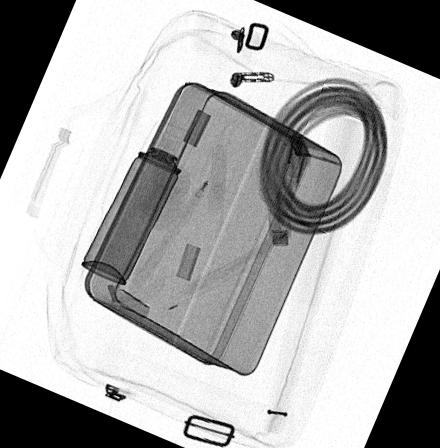Sprayer: (80, 118, 198, 285)
